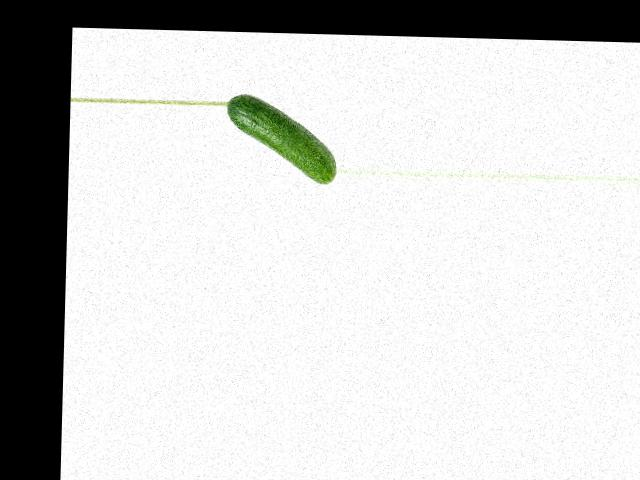cucumber: (224, 93, 338, 184)
